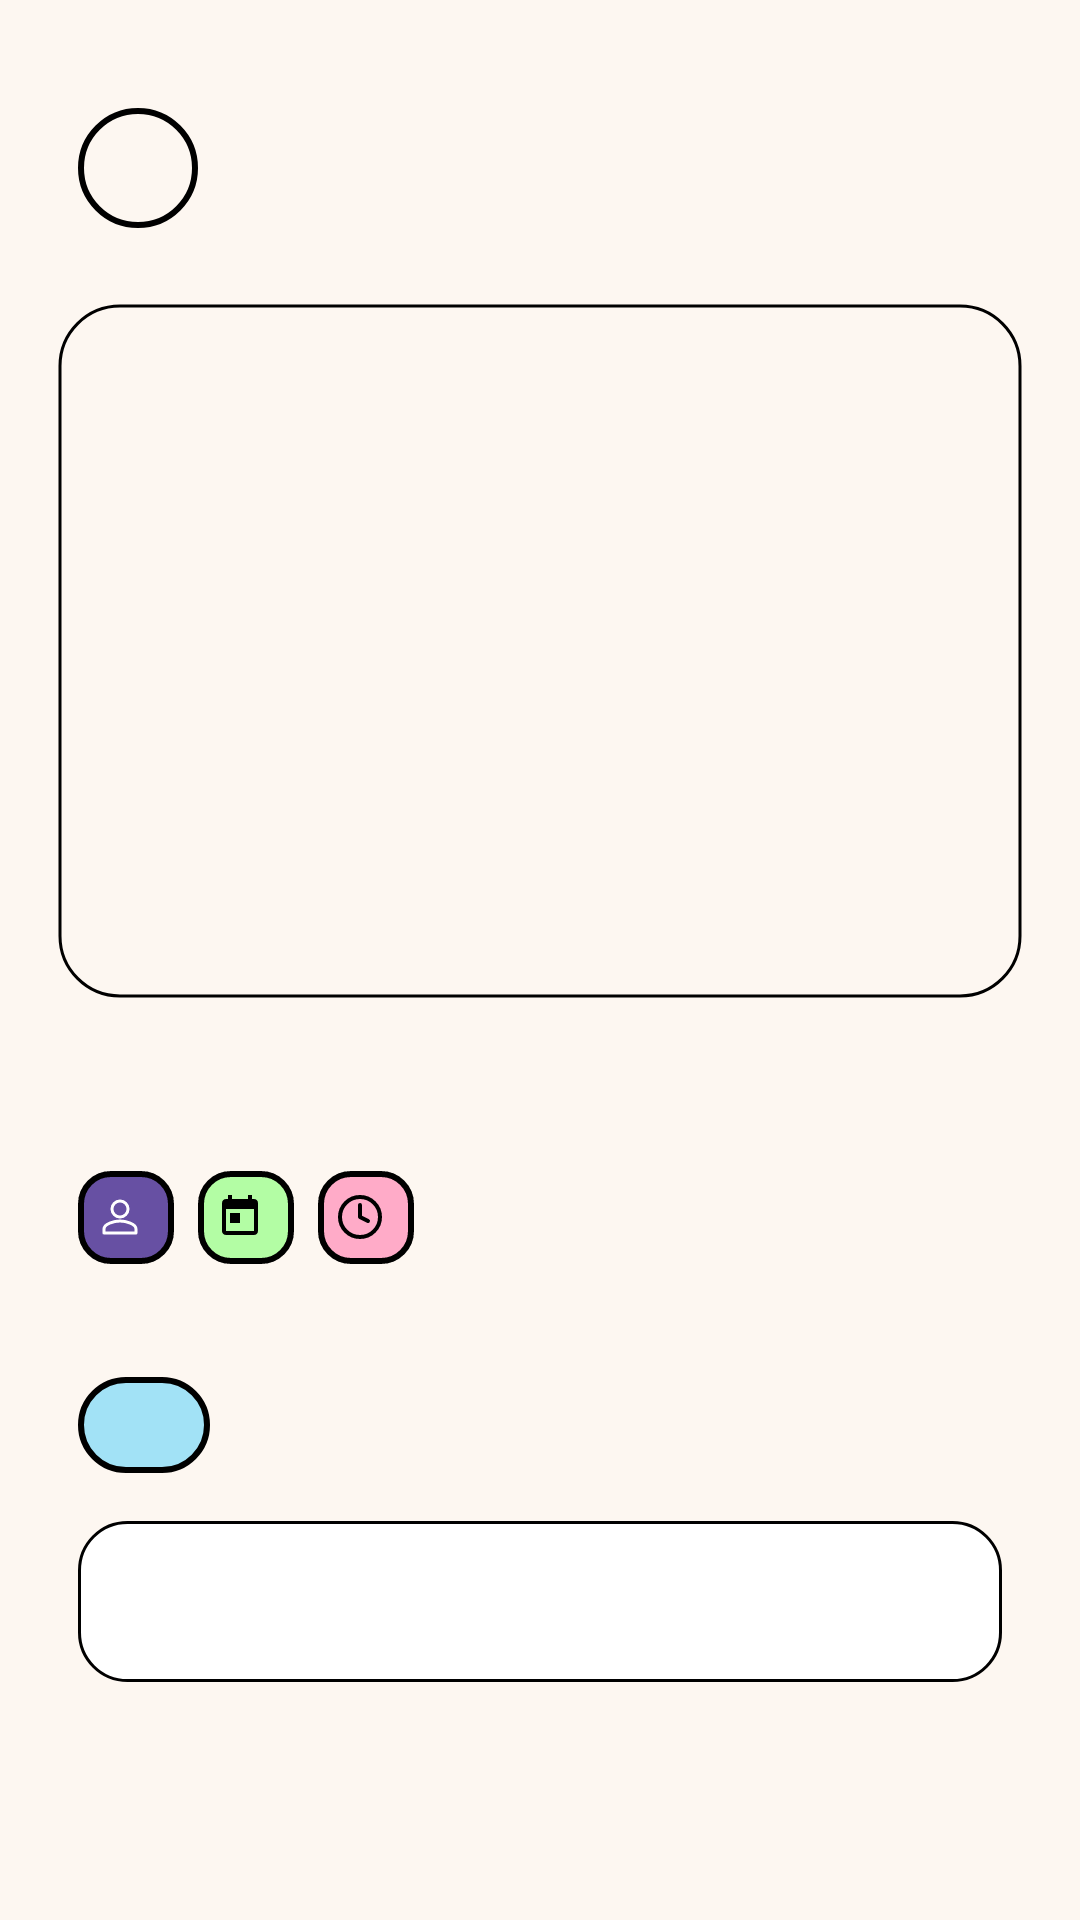

Locate icon controls on the screen. Image size 1080px x 1920px, boxes as (x1, y1, x2, y2).
calendar: (222, 1195, 258, 1235)
person: (102, 1199, 138, 1235)
time: (338, 1195, 382, 1239)
